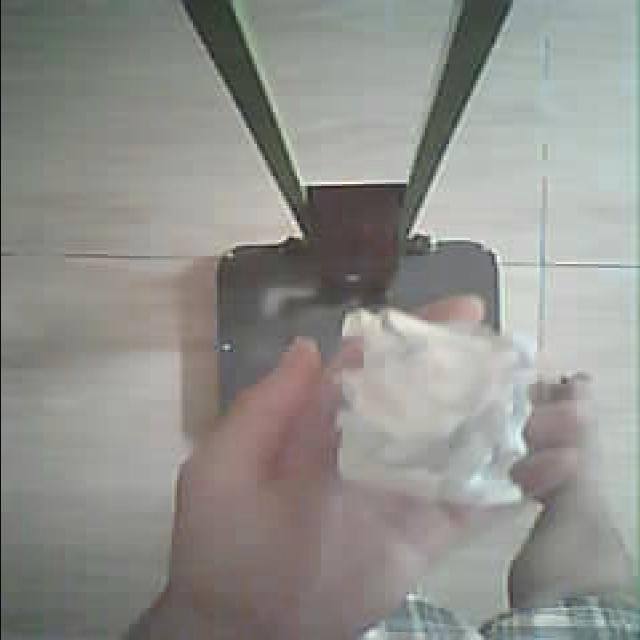Paper: (320, 302, 537, 521)
